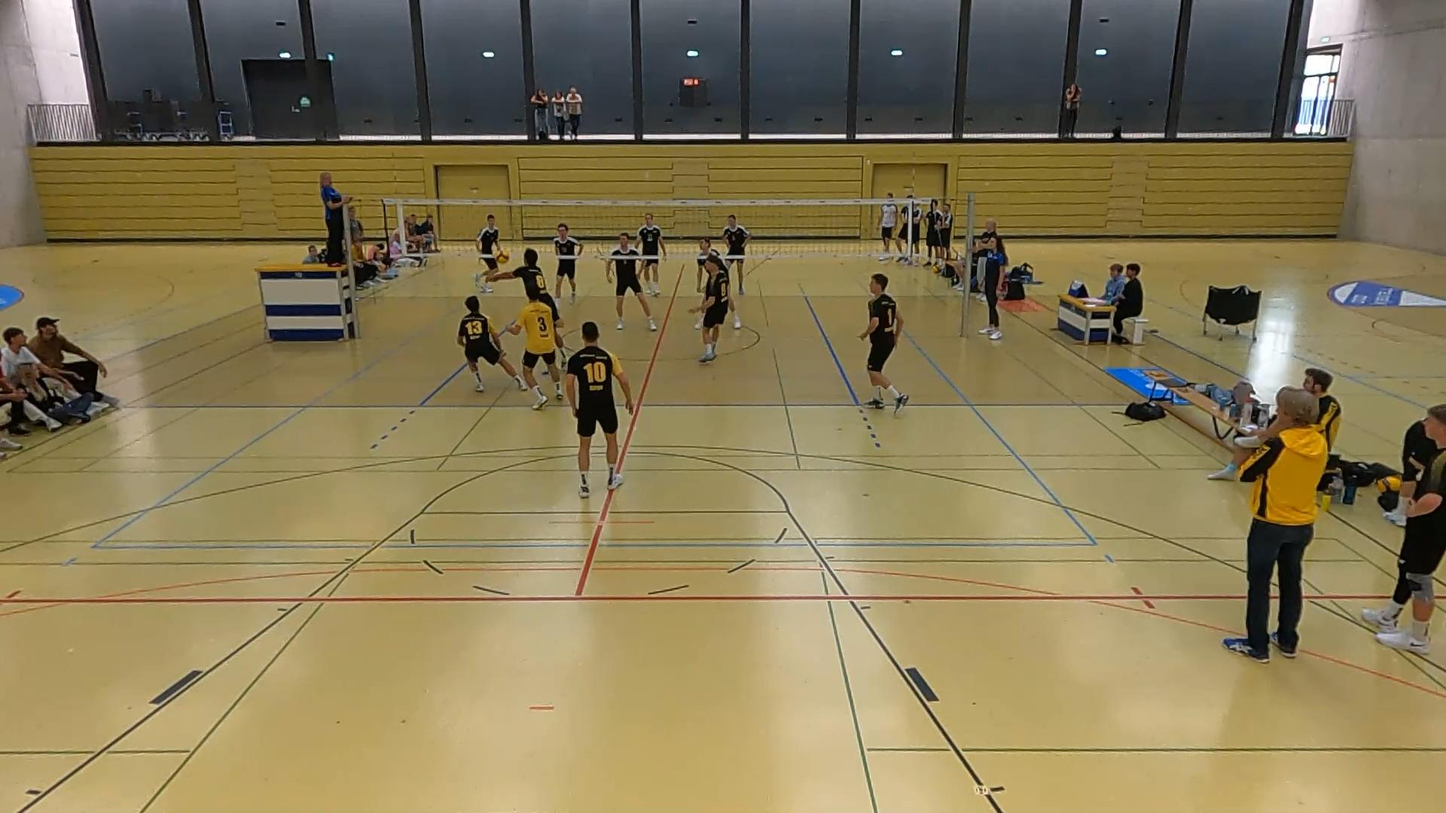difesa: (473, 242, 574, 368)
